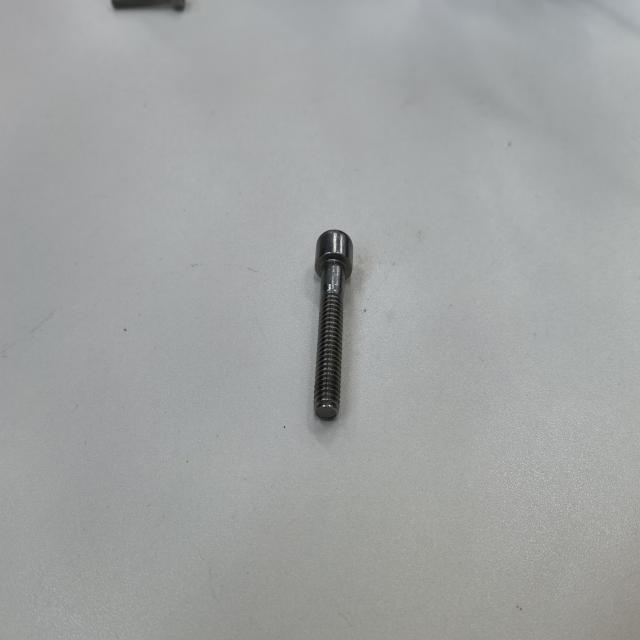screws: (309, 225, 357, 419)
